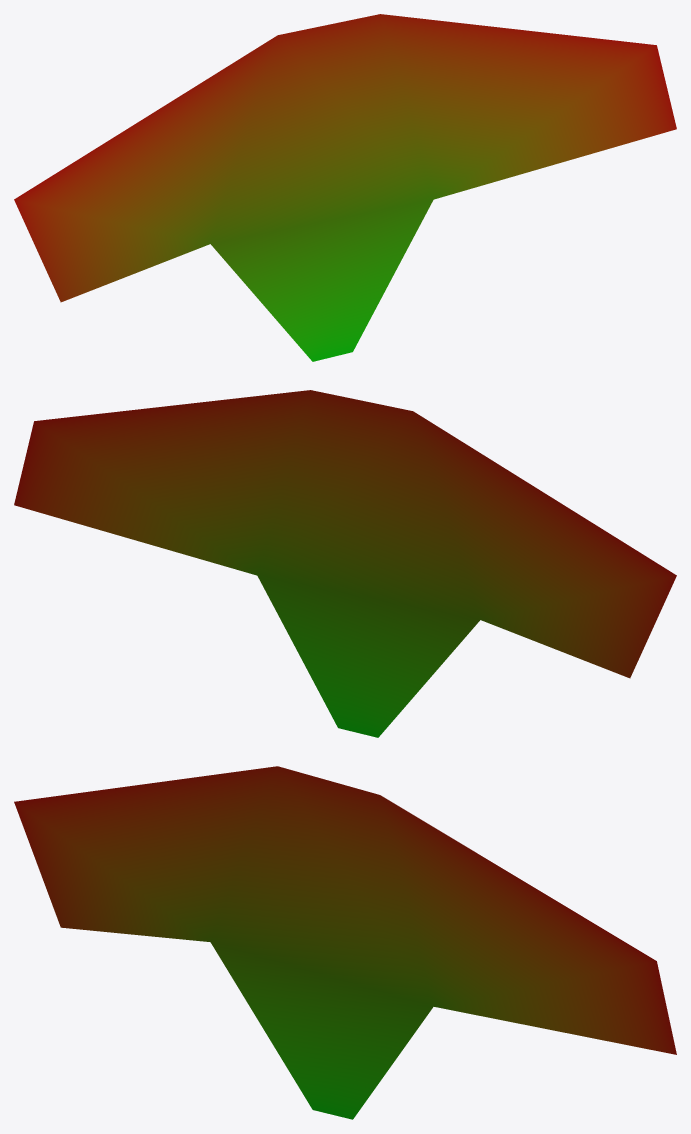
Rendered from Purple Ornamental Kale_LOD6_Var2_ugdieawja.fbx.
3 views of the same model, one above another, from view 1: azimuth 30°, elevation 25°; view 2: azimuth 150°, elevation 25°; view 3: azimuth 330°, elevation 25° (orthographic).
Visible parts, largest first — view 1: _f7a9_Var2_LOD6; view 2: _f7a9_Var2_LOD6; view 3: _f7a9_Var2_LOD6.
Boxes of the visible parts, x1,y1,x2,y2 form: _f7a9_Var2_LOD6: [14, 14, 676, 361]; _f7a9_Var2_LOD6: [14, 390, 676, 737]; _f7a9_Var2_LOD6: [14, 766, 676, 1119].
Size of the model in its own units: 57.71 by 27.88 by 1.49e-08.
